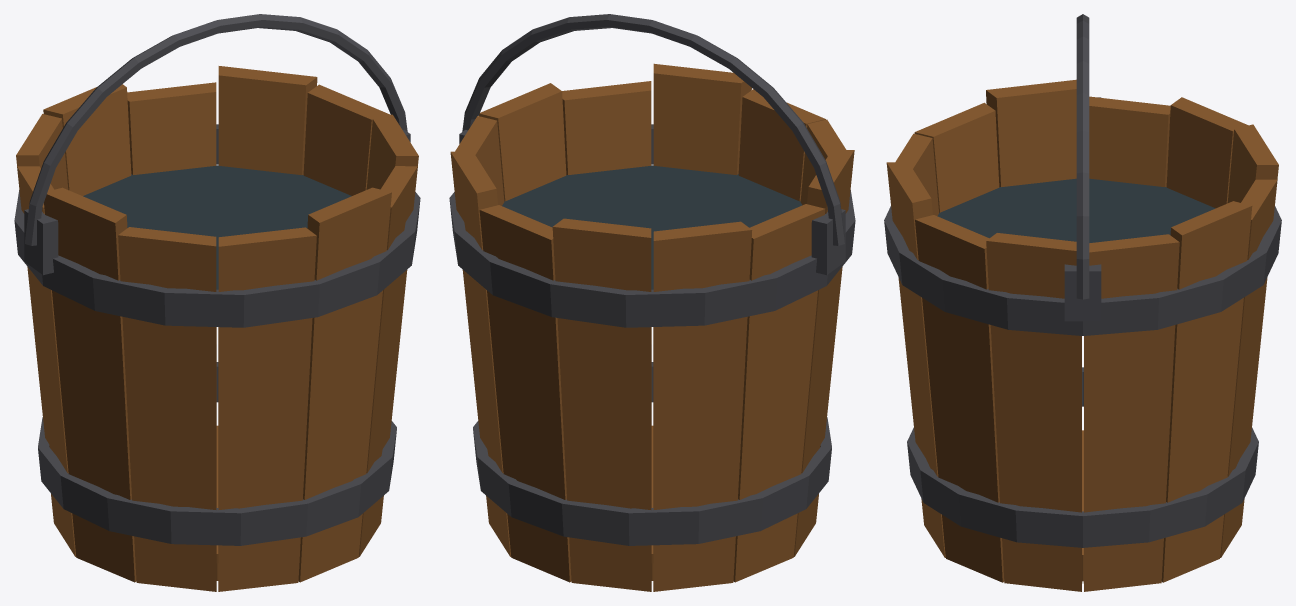
File: water-bucket_final.glb
3 views of the same model, side by side, from view 1: azimuth 30°, elevation 25°; view 2: azimuth 150°, elevation 25°; view 3: azimuth 270°, elevation 25° (orthographic). The views are drawn at different scales.
Visible parts, largest first — view 1: SM_WaterBucket_Staves, SM_WaterBucket_Hoop02, SM_WaterBucket_Hoop01, SM_WaterBucket_Water, SM_WaterBucket_Handle, SM_WaterBucket_Ear02; view 2: SM_WaterBucket_Staves, SM_WaterBucket_Hoop02, SM_WaterBucket_Hoop01, SM_WaterBucket_Water, SM_WaterBucket_Handle, SM_WaterBucket_Ear02; view 3: SM_WaterBucket_Staves, SM_WaterBucket_Hoop02, SM_WaterBucket_Hoop01, SM_WaterBucket_Water, SM_WaterBucket_Handle, SM_WaterBucket_Ear01.
Part boxes in pixels (x1,y1,x2,y2): SM_WaterBucket_Staves: [16, 66, 418, 591]; SM_WaterBucket_Hoop02: [14, 124, 420, 327]; SM_WaterBucket_Hoop01: [38, 362, 396, 545]; SM_WaterBucket_Water: [83, 165, 351, 289]; SM_WaterBucket_Handle: [25, 14, 407, 245]; SM_WaterBucket_Ear02: [24, 209, 58, 275]; SM_WaterBucket_Staves: [450, 63, 854, 591]; SM_WaterBucket_Hoop02: [449, 124, 855, 327]; SM_WaterBucket_Hoop01: [473, 362, 831, 545]; SM_WaterBucket_Water: [502, 165, 802, 289]; SM_WaterBucket_Handle: [462, 14, 844, 245]; SM_WaterBucket_Ear02: [811, 209, 845, 275]; SM_WaterBucket_Staves: [886, 79, 1278, 591]; SM_WaterBucket_Hoop02: [884, 206, 1281, 335]; SM_WaterBucket_Hoop01: [907, 367, 1258, 547]; SM_WaterBucket_Water: [937, 178, 1215, 242]; SM_WaterBucket_Handle: [1076, 14, 1089, 299]; SM_WaterBucket_Ear01: [1064, 264, 1101, 321].
Bounding box in the file's own units: 0.3533 × 0.441 × 0.3256.
